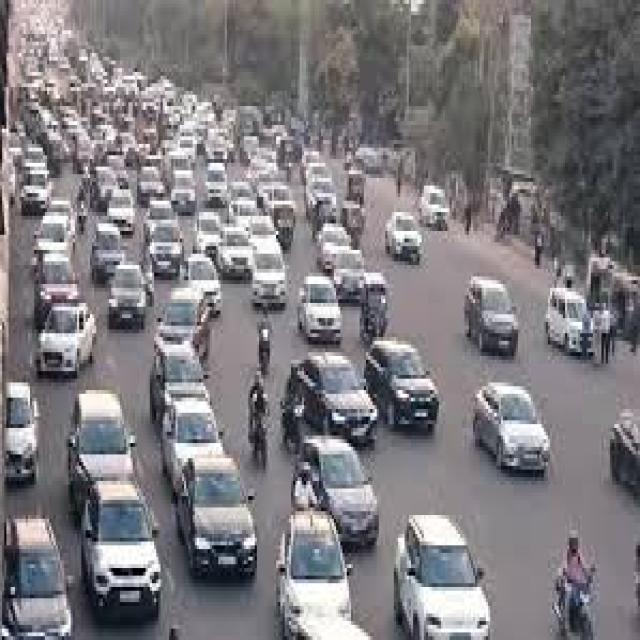Vehicles: (387, 519, 505, 640), (260, 487, 358, 630), (74, 468, 170, 603), (279, 432, 376, 550), (173, 451, 256, 586), (3, 499, 82, 640), (64, 375, 142, 516), (461, 366, 546, 495), (293, 342, 387, 454), (30, 249, 108, 368), (460, 269, 536, 386), (92, 222, 170, 323), (540, 283, 614, 377), (360, 338, 430, 435), (161, 385, 224, 489), (202, 206, 272, 291), (0, 365, 44, 490), (292, 264, 347, 345), (328, 243, 370, 317), (100, 166, 138, 245), (253, 242, 293, 312), (299, 177, 346, 232), (609, 413, 640, 494), (382, 219, 436, 264), (20, 170, 62, 223), (323, 214, 356, 278), (163, 158, 199, 214), (135, 147, 174, 197), (206, 153, 240, 210), (260, 186, 294, 241), (412, 188, 454, 232), (150, 206, 172, 275)
